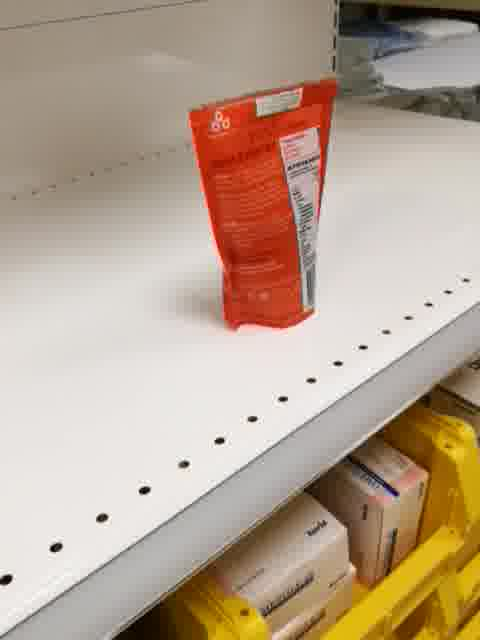whitechia: (184, 75, 341, 334)
